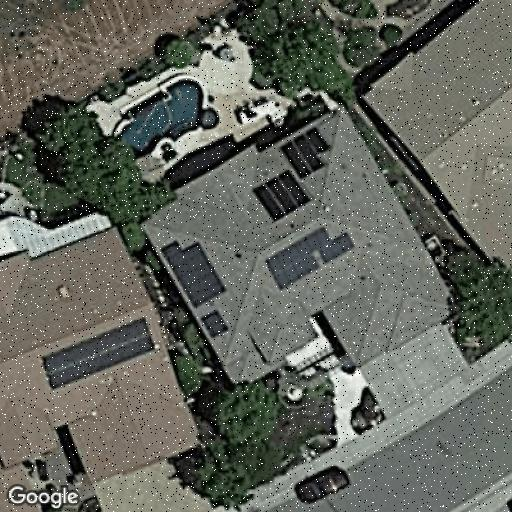solar-panel: (39, 314, 160, 392), (262, 224, 356, 290), (159, 238, 229, 307), (250, 171, 314, 223), (280, 127, 334, 177), (198, 310, 232, 338)
